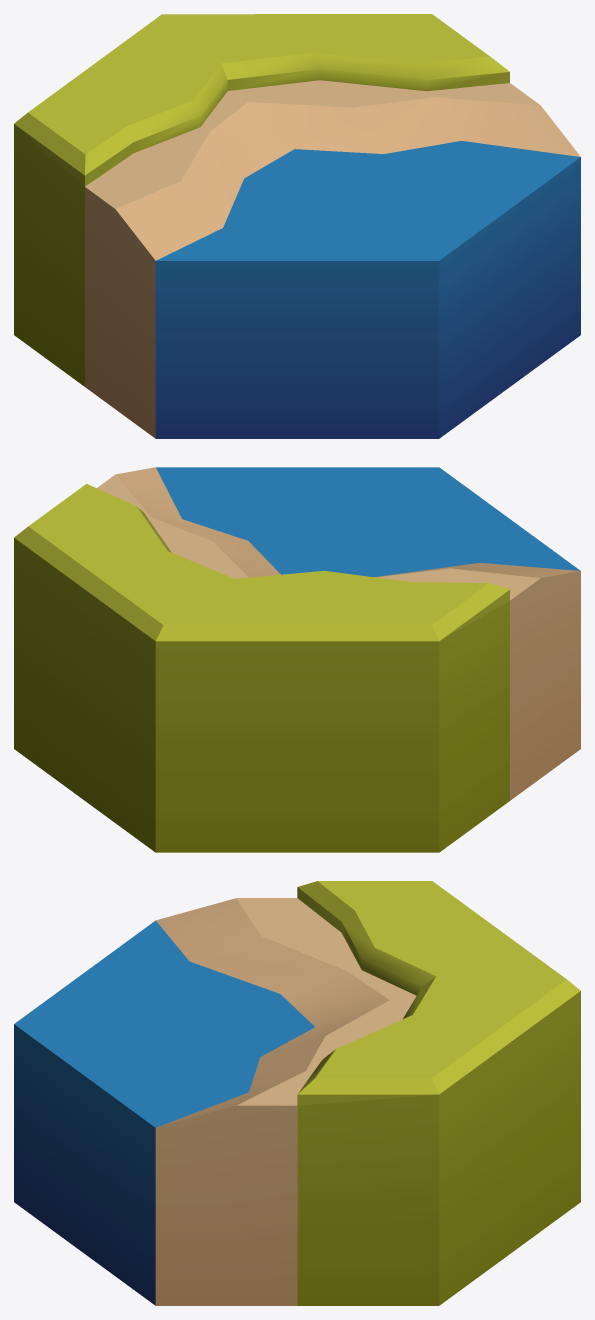
Rendered from hex_coast_b.glb.
3 views of the same model, one above another, from view 1: azimuth 30°, elevation 25°; view 2: azimuth 150°, elevation 25°; view 3: azimuth 270°, elevation 25° (orthographic).
Visible parts, largest first — view 1: hex_coast_B; view 2: hex_coast_B; view 3: hex_coast_B.
Part boxes in pixels (left/top/right/bottom): hex_coast_B: left=14, top=14, right=580, bottom=438; hex_coast_B: left=14, top=467, right=580, bottom=852; hex_coast_B: left=14, top=881, right=580, bottom=1305.
Size of the model in its own units: 2 by 1 by 2.31.
1 material, 1 textured.
